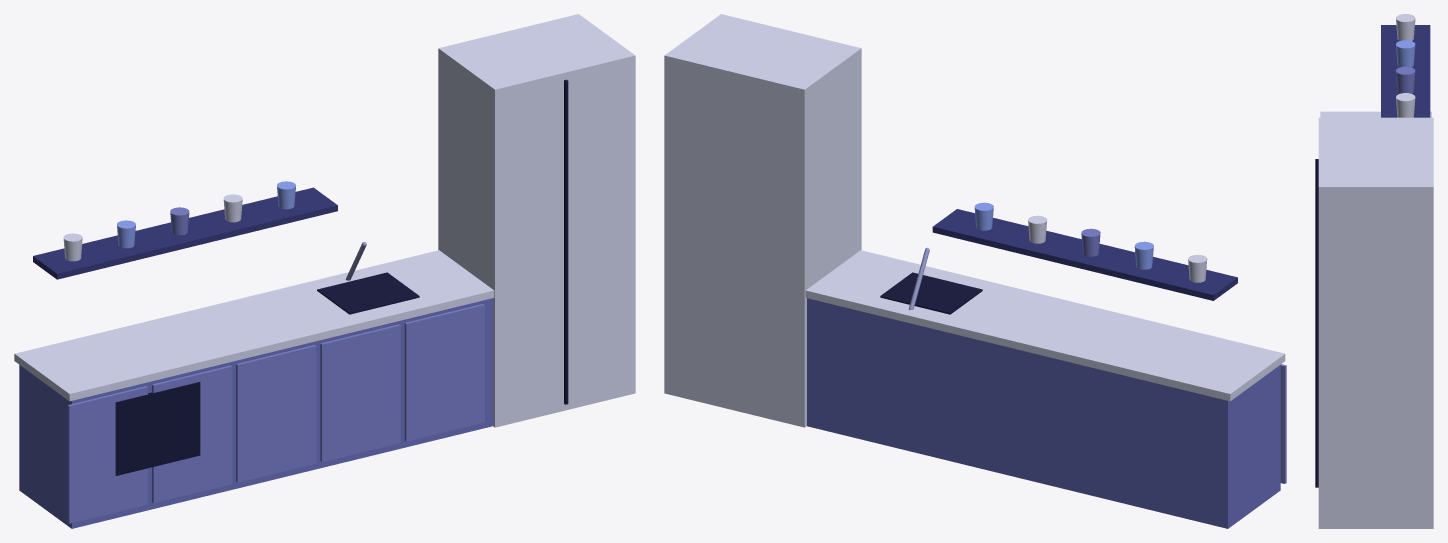
File: kitchenRun.glb
3 views of the same model, side by side, from view 1: azimuth 30°, elevation 25°; view 2: azimuth 150°, elevation 25°; view 3: azimuth 270°, elevation 25° (orthographic).
Visible parts, largest first — view 1: fridge, kitchenRun, top, base, shelf, oven, sink; view 2: fridge, base, top, shelf, sink, kitchenRun; view 3: fridge, shelf, kitchenRun, jar0, jar1, jar2, jar3, top.
Boxes of the visible parts, left/top/right/bottom form: fridge: left=438, top=14, right=635, bottom=427; kitchenRun: left=67, top=79, right=568, bottom=523; top: left=14, top=250, right=494, bottom=401; base: left=19, top=298, right=492, bottom=528; shelf: left=33, top=187, right=337, bottom=279; oven: left=115, top=382, right=200, bottom=475; sink: left=317, top=272, right=419, bottom=314; fridge: left=664, top=14, right=861, bottom=427; base: left=807, top=298, right=1280, bottom=528; top: left=805, top=250, right=1285, bottom=401; shelf: left=932, top=209, right=1237, bottom=300; sink: left=880, top=272, right=982, bottom=314; kitchenRun: left=1280, top=364, right=1286, bottom=483; fridge: left=1318, top=117, right=1433, bottom=528; shelf: left=1381, top=25, right=1430, bottom=117; kitchenRun: left=1315, top=159, right=1318, bottom=487; jar0: left=1396, top=14, right=1415, bottom=40; jar1: left=1396, top=40, right=1415, bottom=67; jar2: left=1396, top=66, right=1415, bottom=93; jar3: left=1396, top=93, right=1415, bottom=117; top: left=1320, top=111, right=1431, bottom=117.
Bounding box in the file's own units: 4.03 × 2.3 × 0.72.
